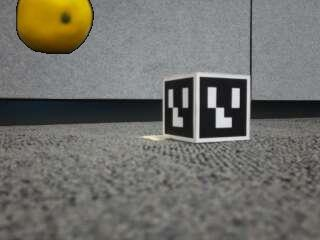lemon: (16, 0, 94, 54)
